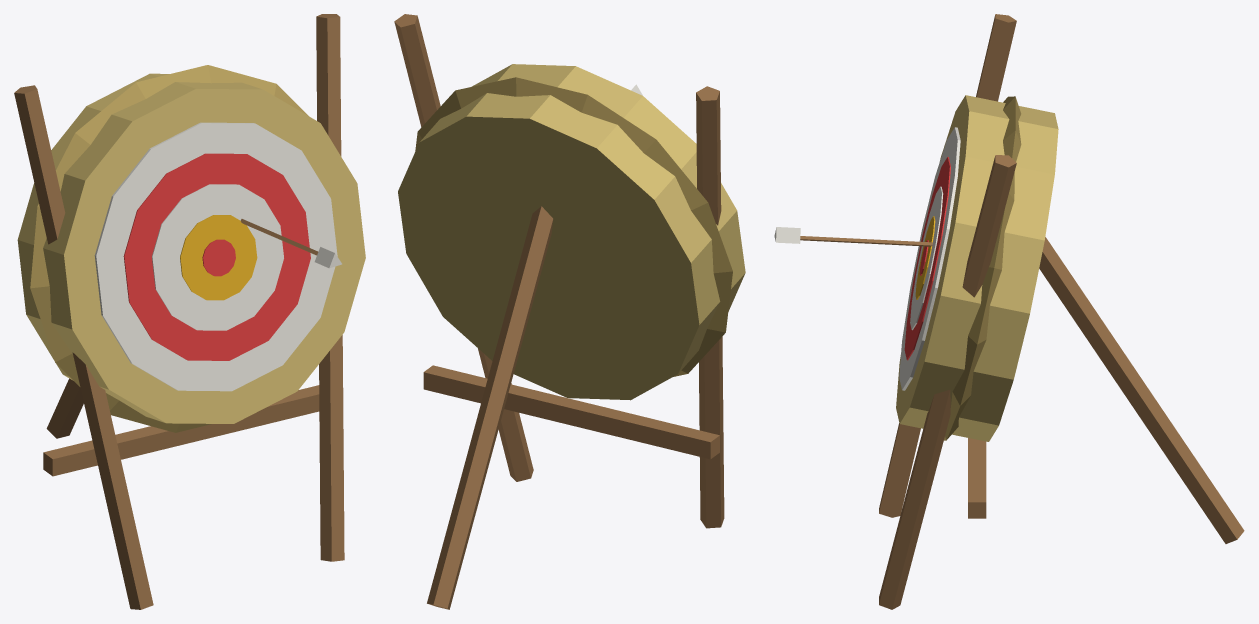
Rendered from grove_archery_butt.glb.
3 renders of one model, left to right at view 1: azimuth 30°, elevation 25°; view 2: azimuth 150°, elevation 25°; view 3: azimuth 270°, elevation 25°, orthographic. The views are drawn at different scales.
Parts seen in each view (by area): view 1: grove_archery_butt; view 2: grove_archery_butt; view 3: grove_archery_butt.
Part boxes in pixels (x1,y1,x2,y2): grove_archery_butt: [14, 14, 365, 609]; grove_archery_butt: [394, 14, 745, 609]; grove_archery_butt: [774, 14, 1244, 609].
Size of the model in its own units: 1.18 by 1.71 by 1.54.
